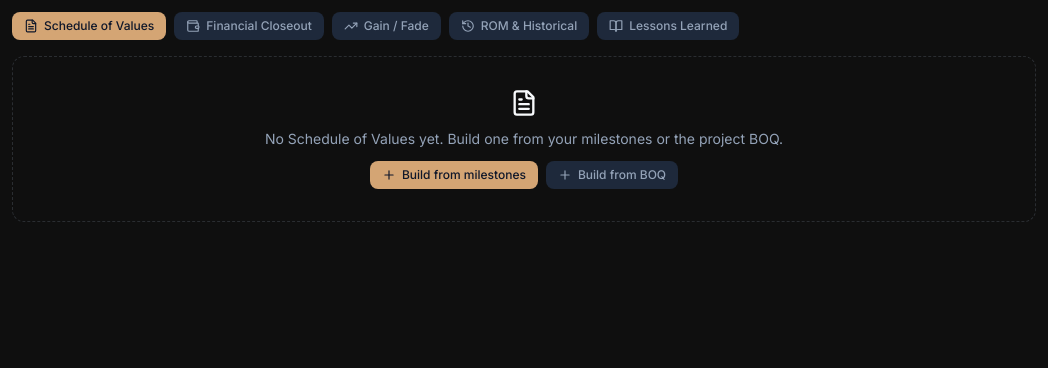
Test: CloseoutPanel › captures a lesson and shows summary
Click the button "Lessons Learned" at x=668, y=26, box [597,12,739,40]
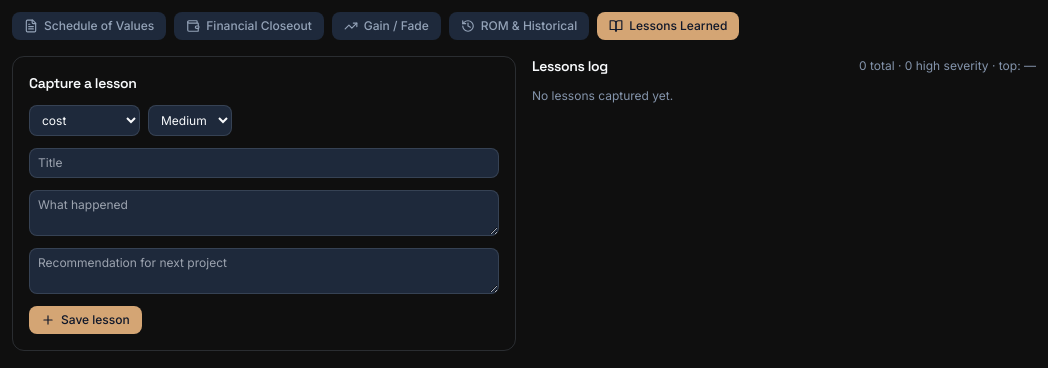
Type "Underbid rebar" into the field with placeholder "Title" at x=264, y=163, box [29,148,499,178]
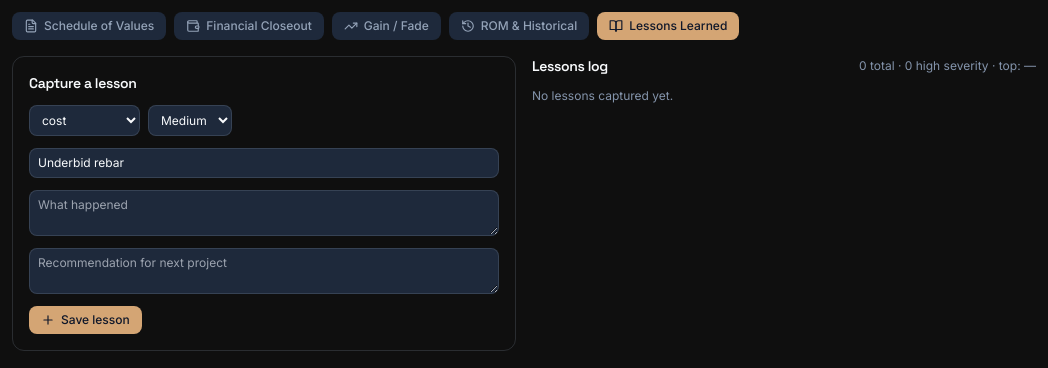
Type "Rebar spiked" into the text box with placeholder "What happened" at x=264, y=213, box [29,190,499,236]
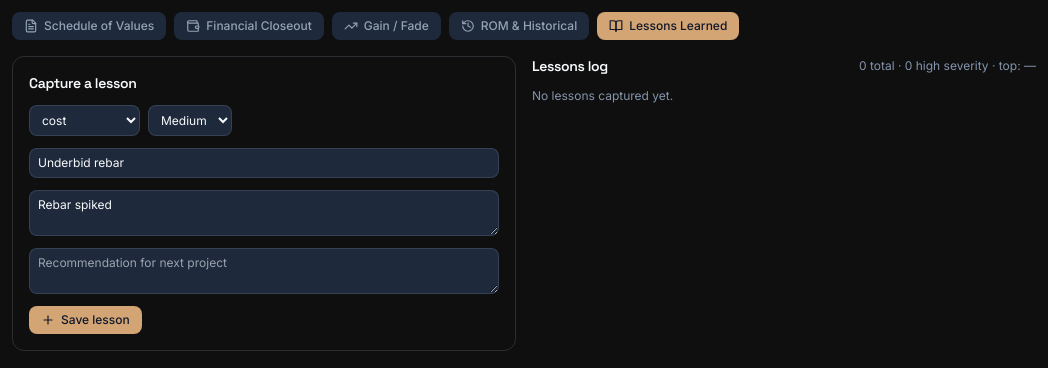
Click the button "Save lesson" at x=85, y=320, box [29,306,142,334]
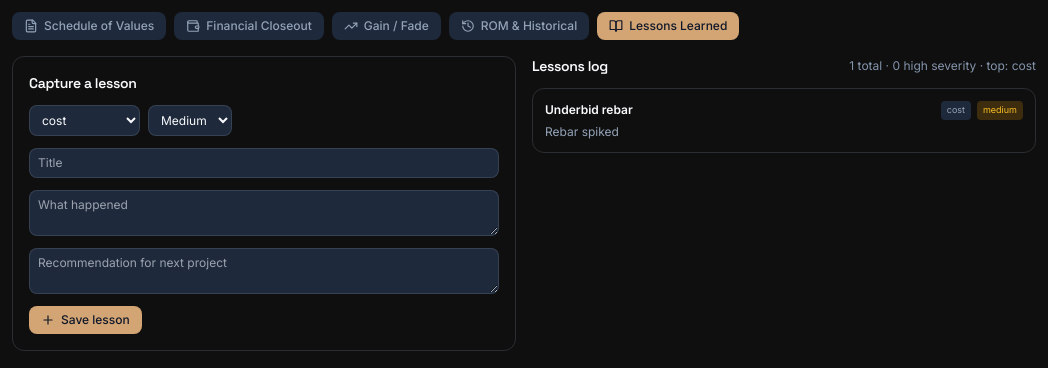
Result: the text "Underbid rebar" is shown at [545,102,633,118]
Result: the text "1 total · 0 high severity · top: cost" is shown at [849,58,1036,74]
